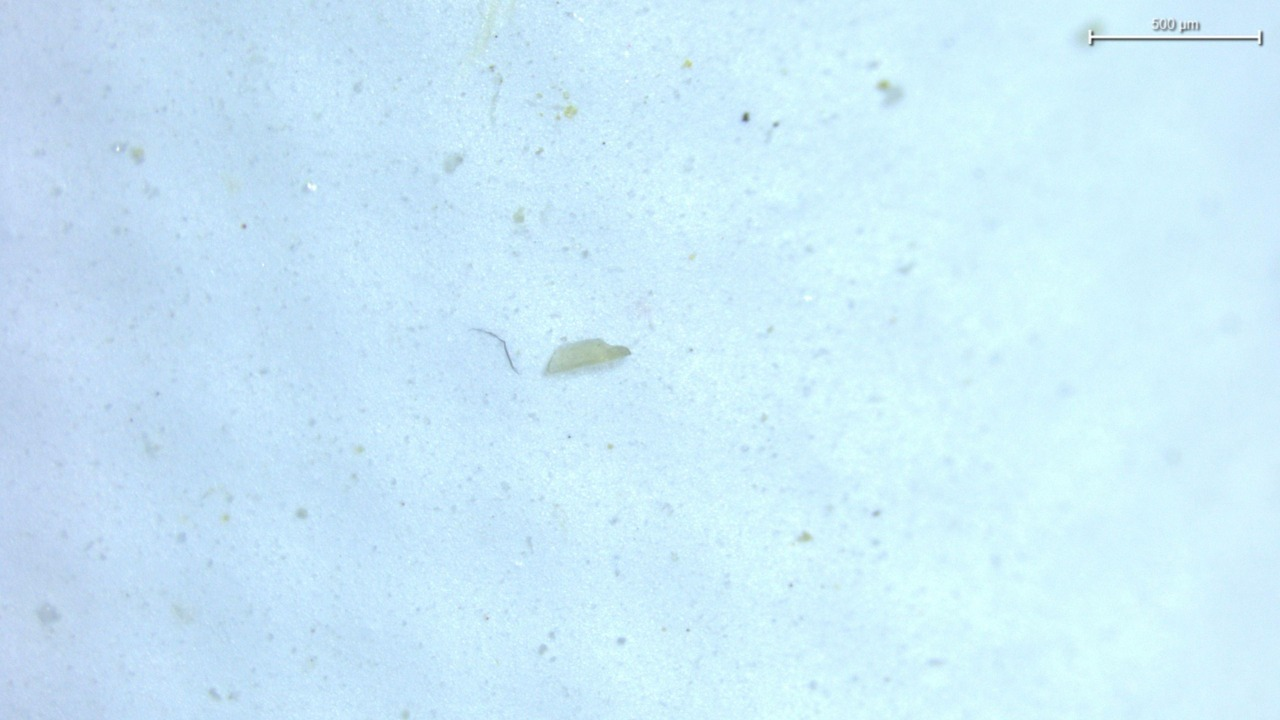microplastic_fragment: (546, 339, 630, 373)
